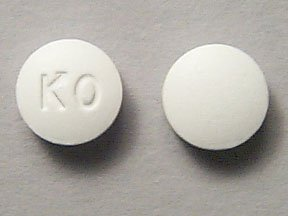Acetaminophen 325 MG Oral Tablet: (8, 34, 130, 155), (156, 37, 277, 156)
